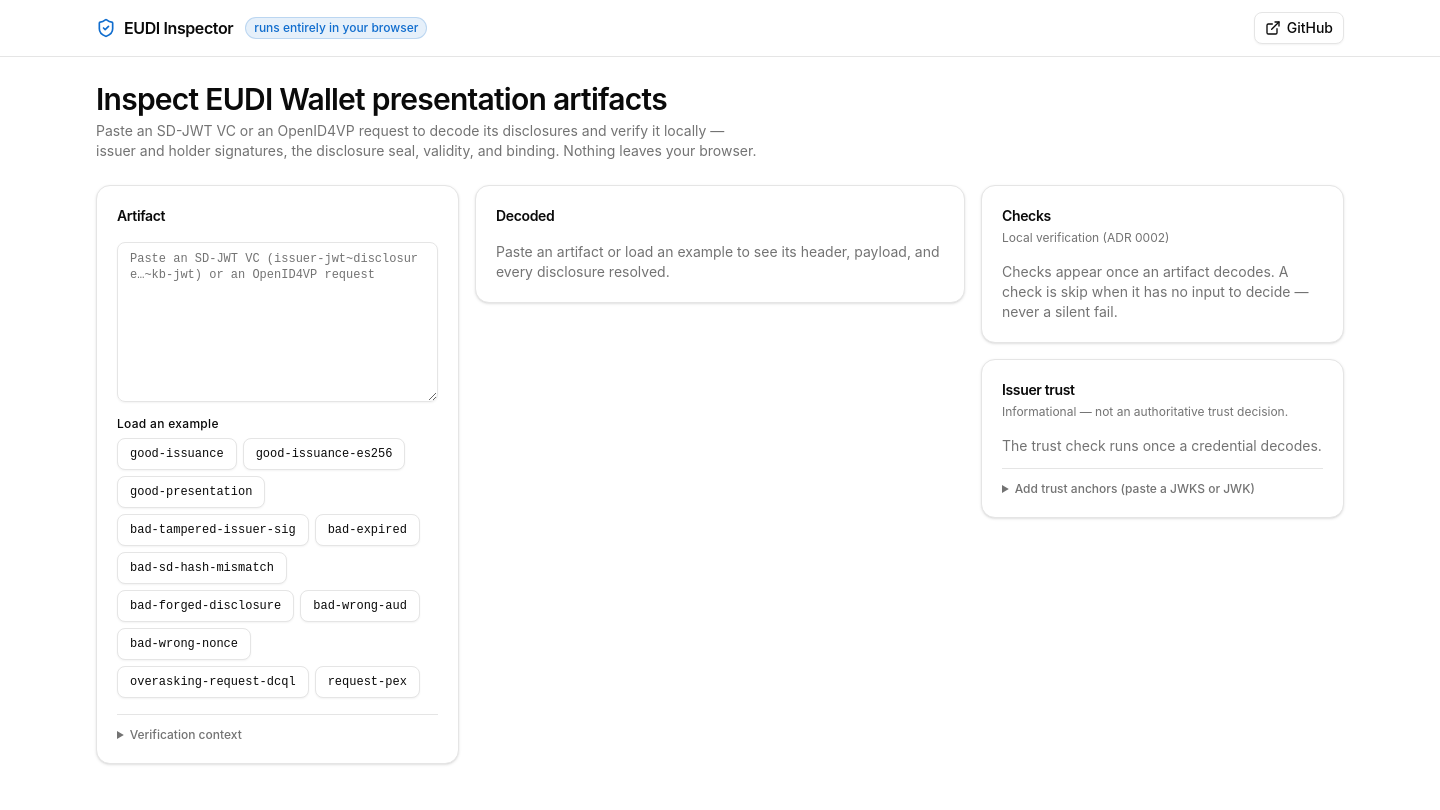
Test: App › shows no overasking for the justified PEX baseline request
Click the button "request-pex": (367, 682) [315, 666, 420, 698]
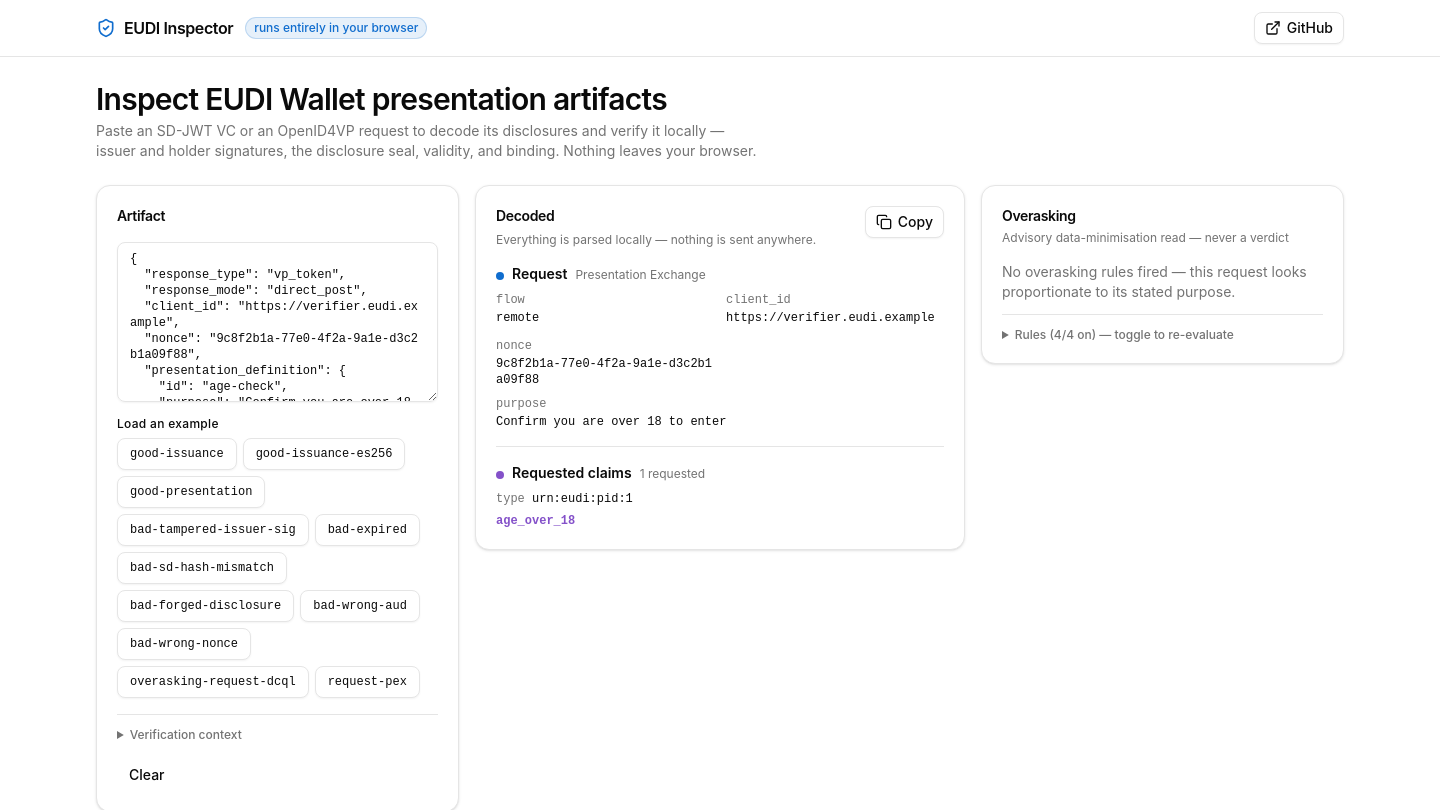
Expected: the text "age_over_18" is shown, [496, 514, 575, 528]
Expected: the text "No overasking rules fired" is shown, [1002, 263, 1307, 300]
